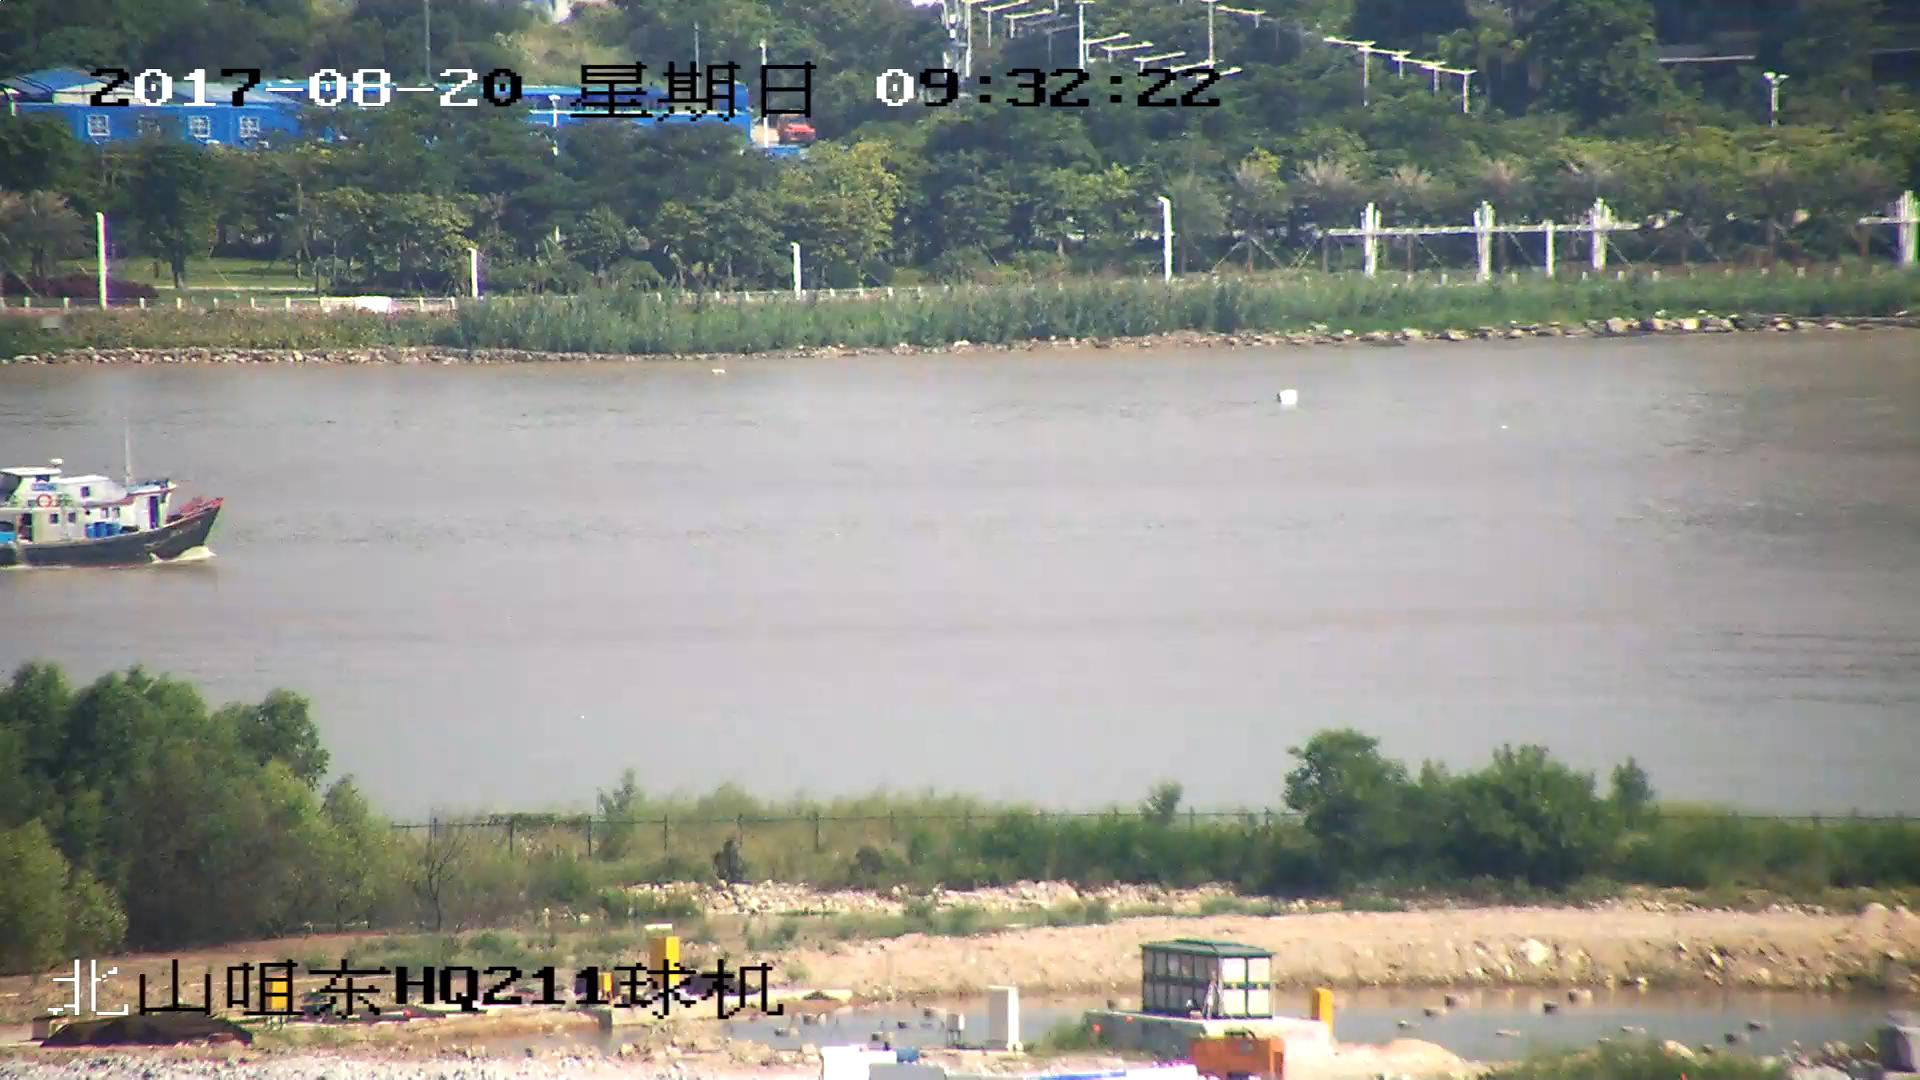fishing boat: (1, 453, 216, 567)
